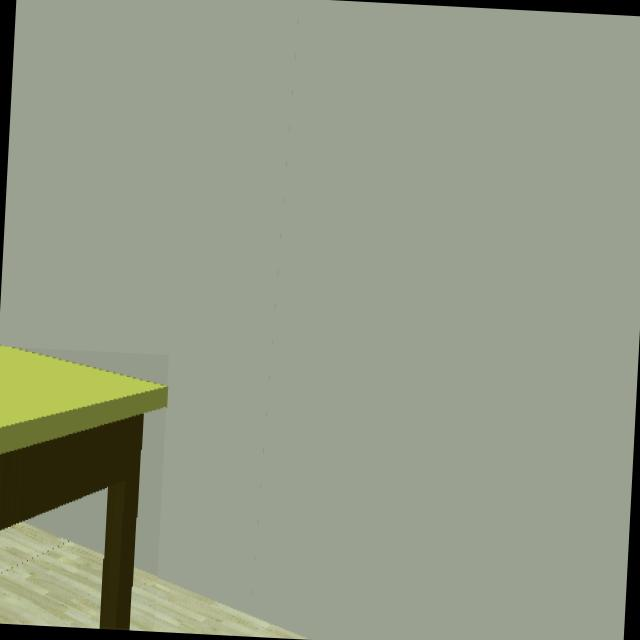table: (0, 347, 167, 627)
